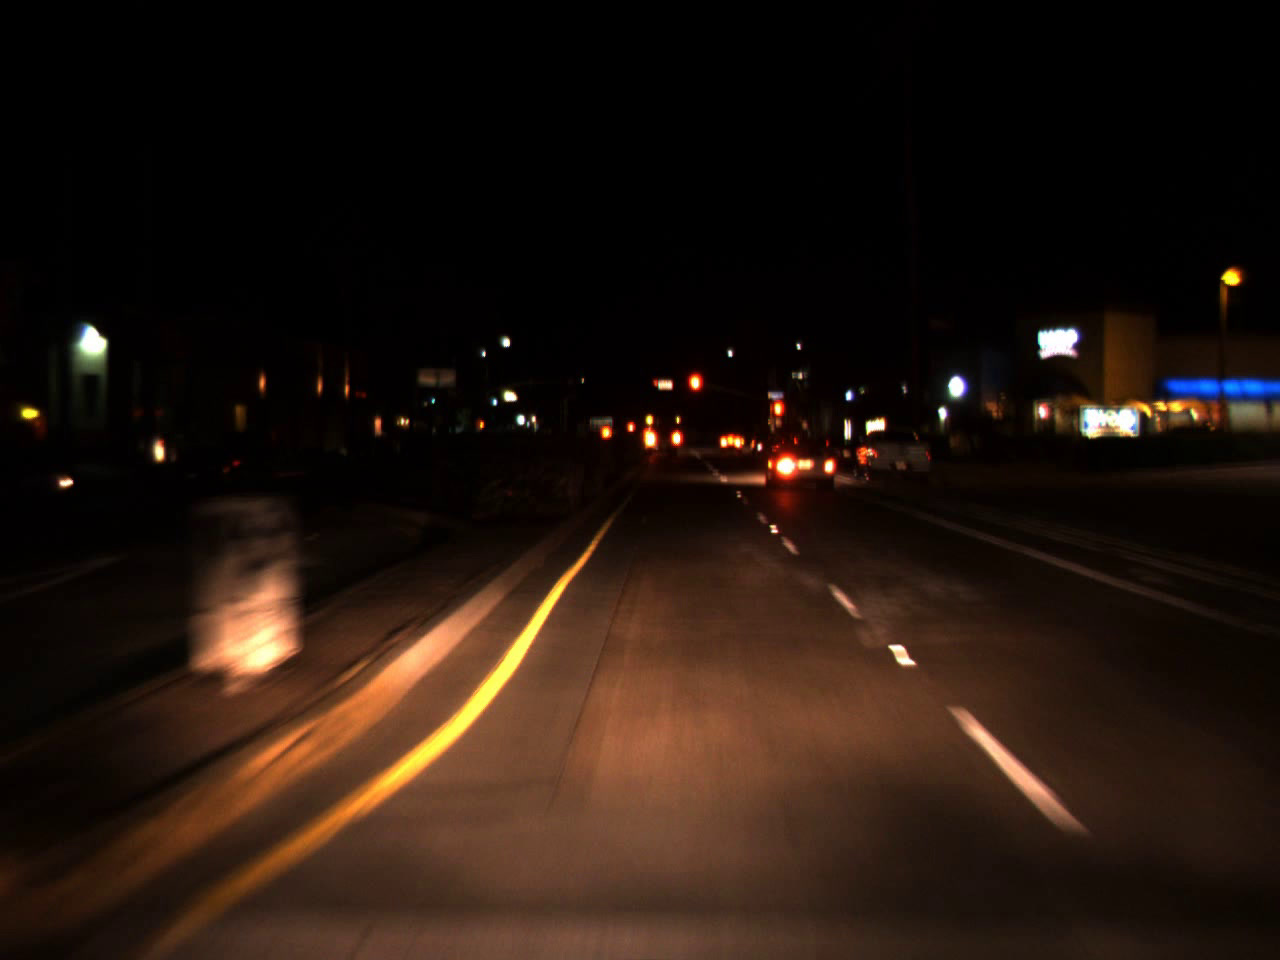stop: (685, 370, 703, 413), (772, 398, 784, 435), (652, 378, 659, 394)
